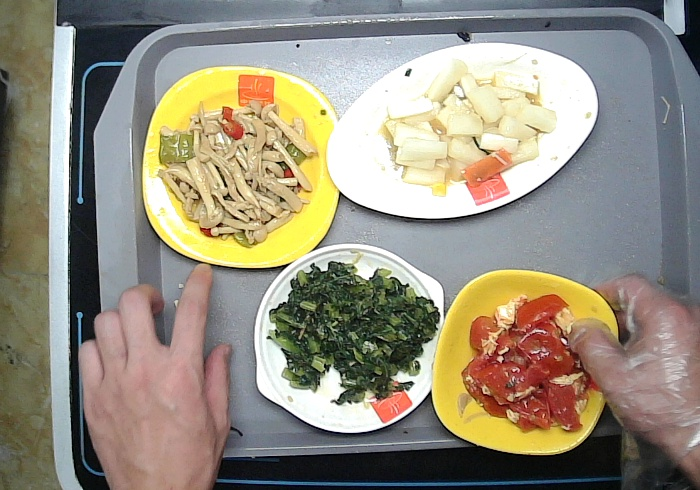SHKJ-Bao_Yu_Pan: (254, 244, 445, 434)
SHKJ-Huang_Se_Cai_Die: (431, 268, 619, 454)
SHKJ-Huang_Se_Si_Fang_Cai_Die: (141, 67, 343, 267)
SHKJ-Yu_Pan: (325, 43, 600, 218)
